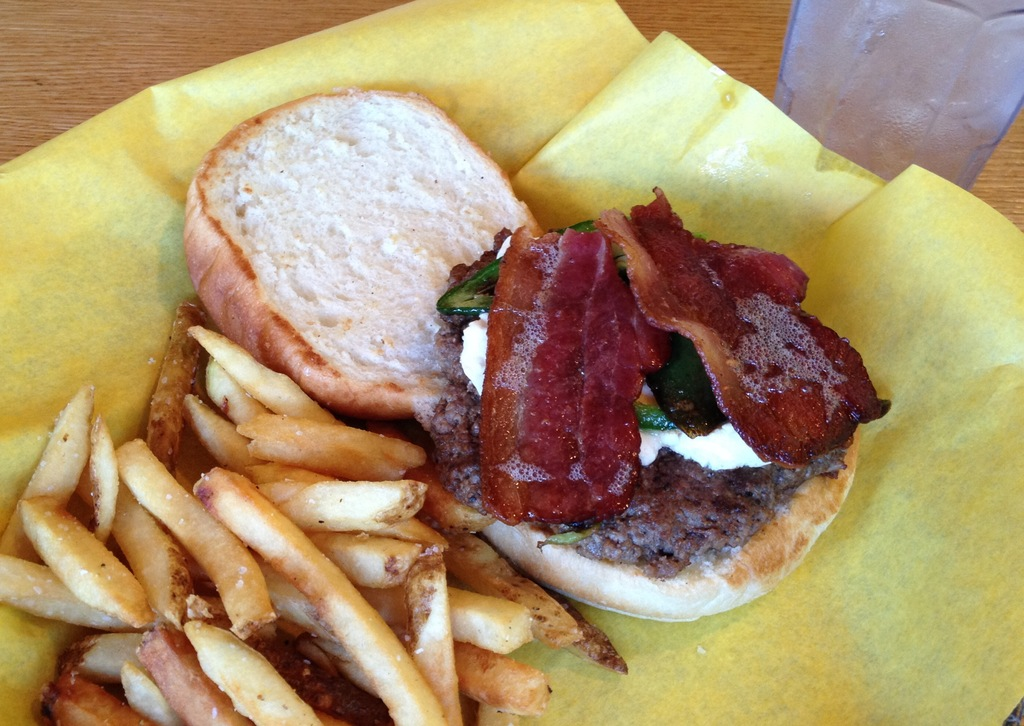French fries: (0, 290, 627, 722)
